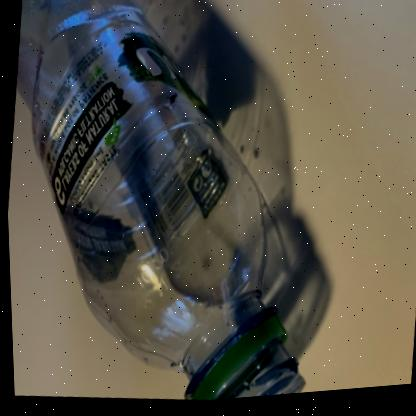Plastic: (14, 0, 299, 403)
